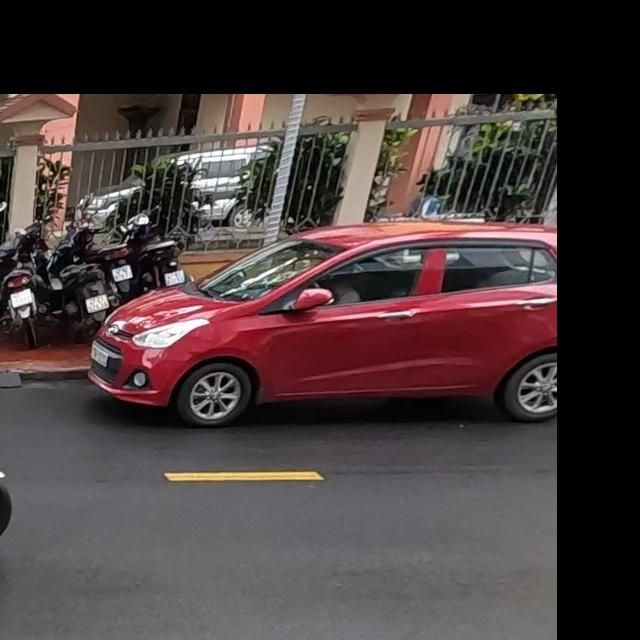license-plate: (84, 294, 110, 314)
